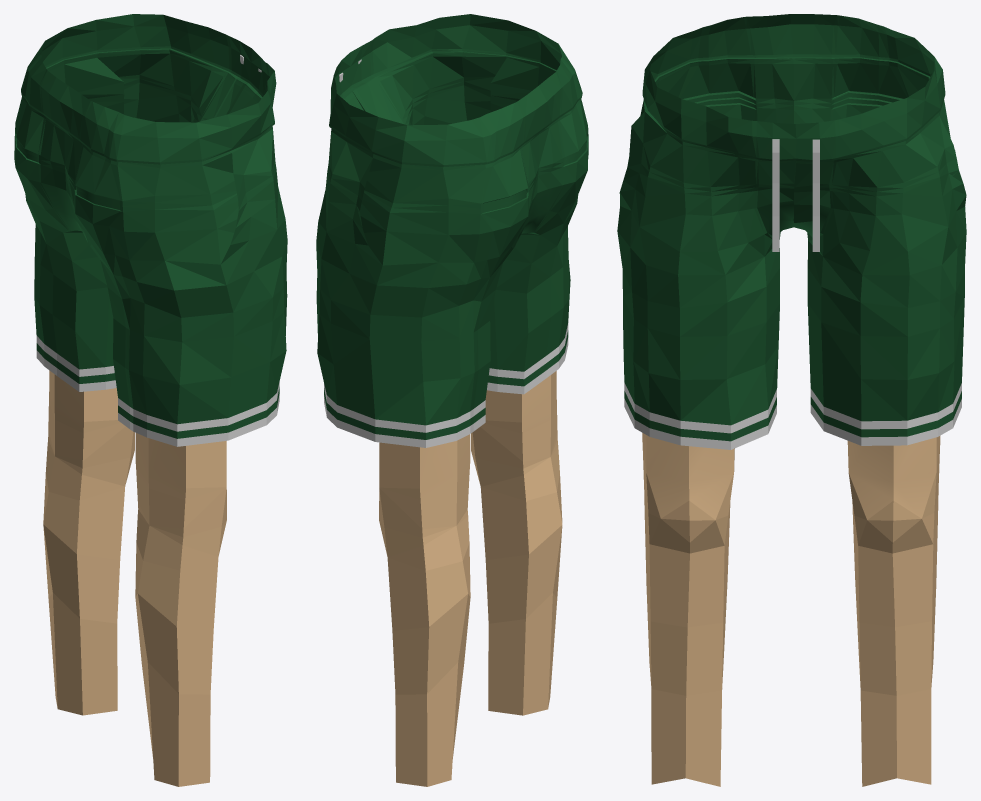
The model's file is OfficialGreenShorts.glb.
The picture shows the model from 3 angles, left to right: view 1: azimuth 30°, elevation 25°; view 2: azimuth 150°, elevation 25°; view 3: azimuth 270°, elevation 25°; orthographic projection. The views are drawn at different scales.
Visible parts, largest first — view 1: Legs; view 2: Legs; view 3: Legs.
Boxes of the visible parts, <box> form: Legs: <box>14,14,287,786</box>; Legs: <box>316,14,588,786</box>; Legs: <box>617,14,966,786</box>.
Size of the model in its own units: 0.3445 by 1.08 by 0.4685.
